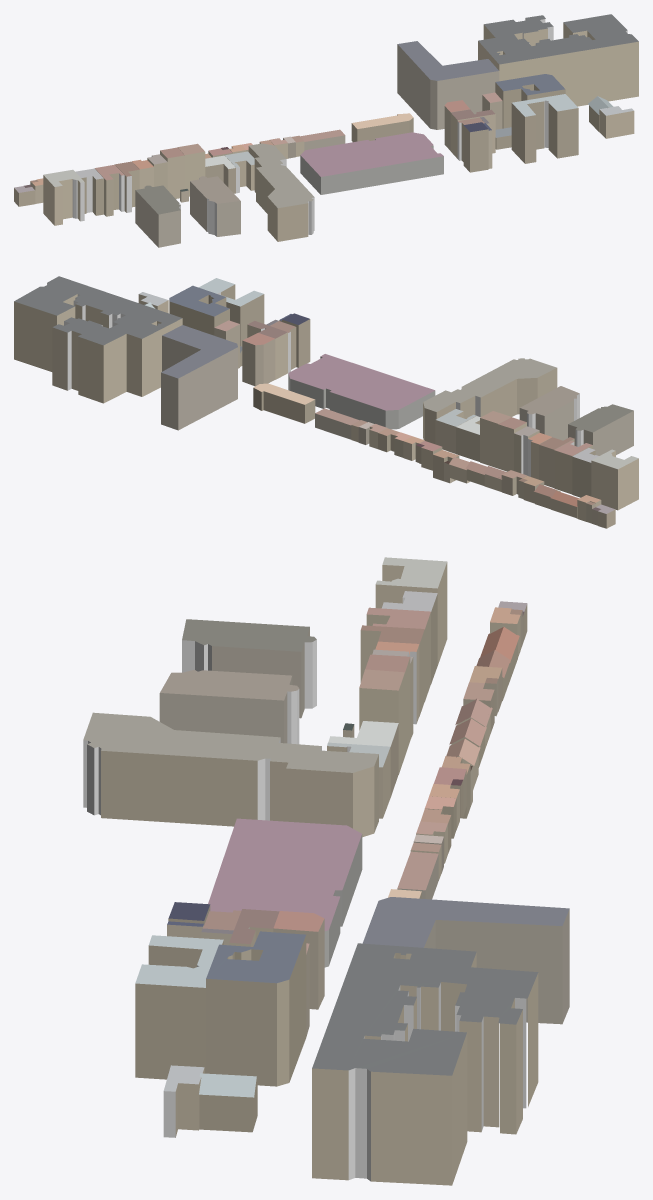
3 views of the same model, one above another, from view 1: azimuth 30°, elevation 25°; view 2: azimuth 150°, elevation 25°; view 3: azimuth 270°, elevation 25° (orthographic). The views are drawn at different scales.
Parts seen in each view (by area): view 1: tuile; view 2: tuile; view 3: tuile.
Boxes of the visible parts, x1,y1,x2,y2 form: tuile: (14,14,638,247); tuile: (14,276,638,528); tuile: (83,557,569,1185).
Size of the model in its own units: 278 by 30.44 by 101.
